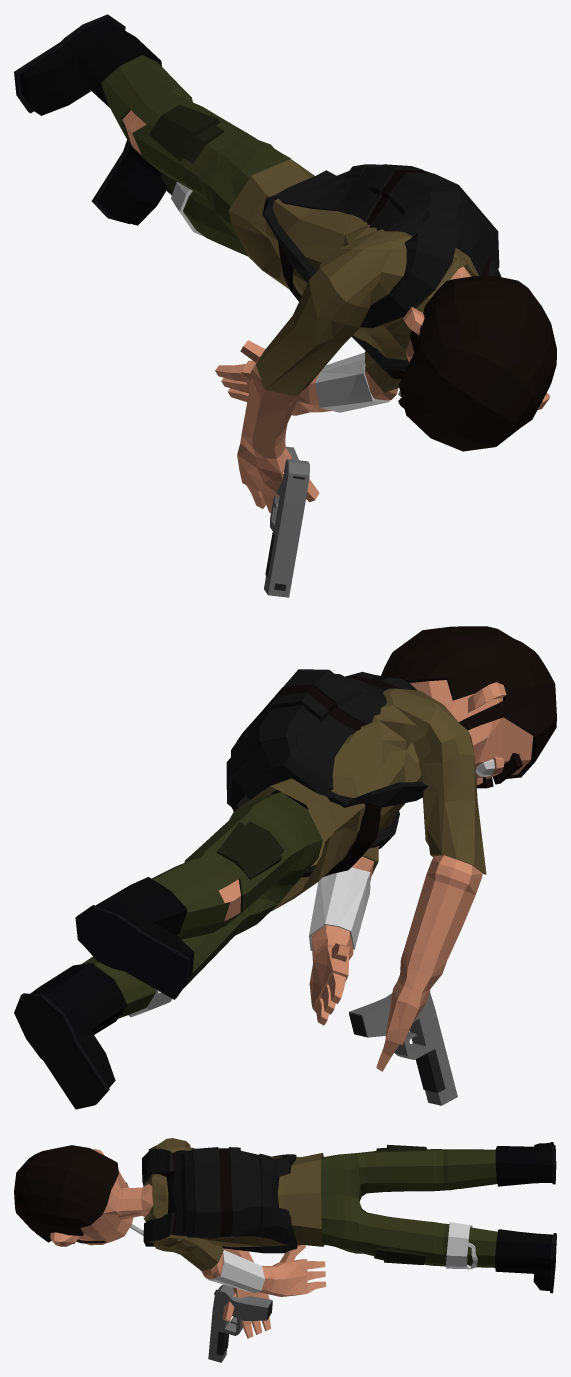
File: frame_0013.obj
3 renders of one model, top to bottom at view 1: azimuth 30°, elevation 25°; view 2: azimuth 150°, elevation 25°; view 3: azimuth 270°, elevation 25°, orthographic. The views are drawn at different scales.
Parts seen in each view (by area): view 1: Body, Gun; view 2: Body, Gun; view 3: Body, Gun.
Boxes of the visible parts, bbox=[...] form: Body: bbox=[14, 14, 556, 512]; Gun: bbox=[264, 446, 309, 597]; Body: bbox=[14, 626, 556, 1109]; Gun: bbox=[349, 991, 457, 1105]; Body: bbox=[14, 1138, 556, 1338]; Gun: bbox=[208, 1284, 272, 1362].
Bounding box in the file's own units: 1.33 × 2.13 × 4.15.
